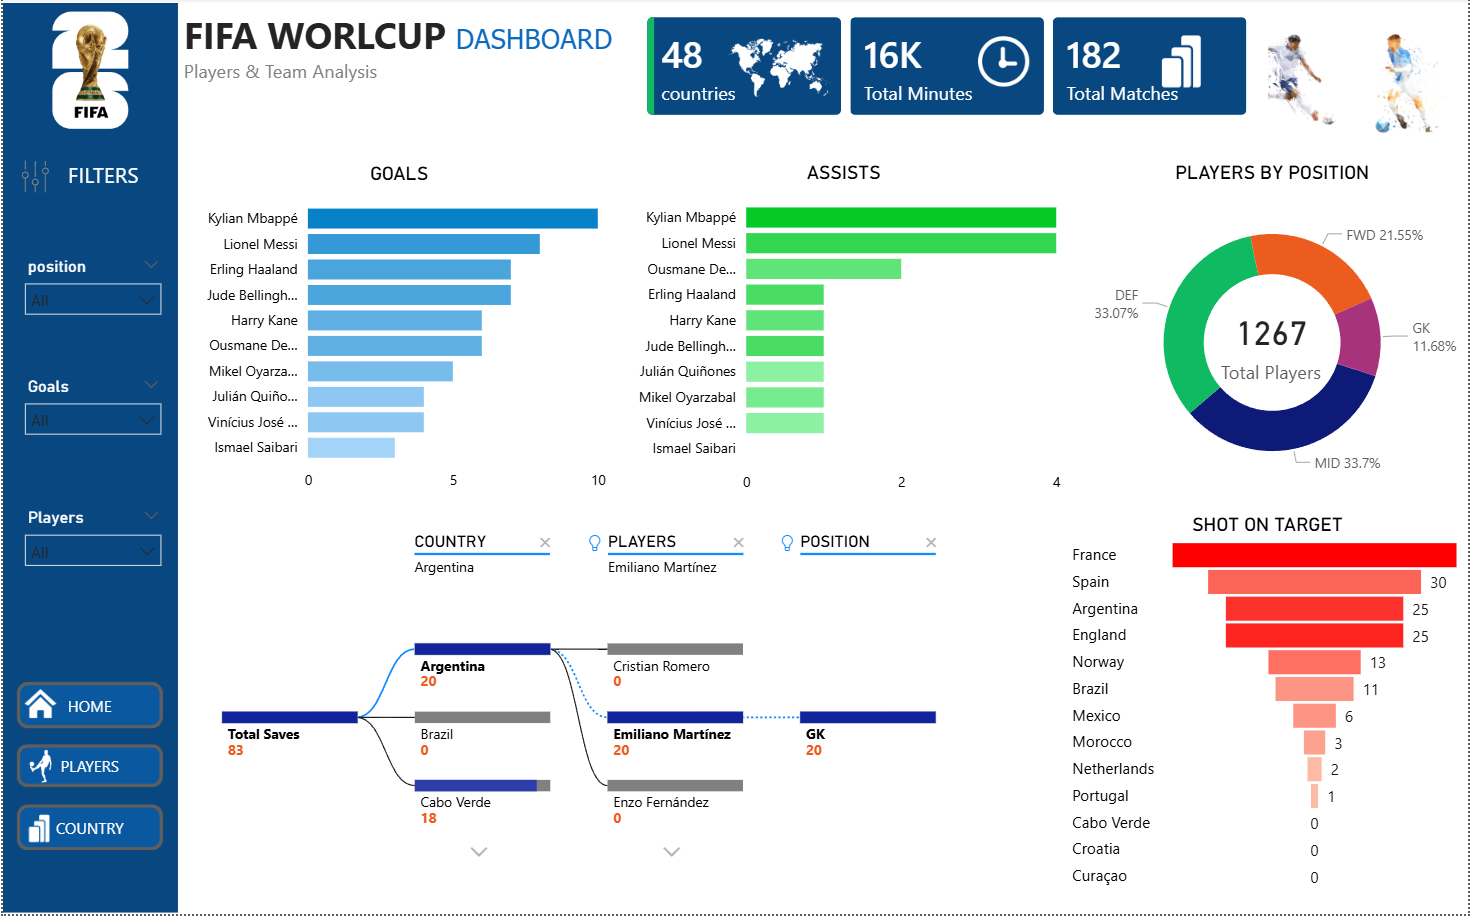

The page's visual inventory and layout, read from the dashboard file:
{"tool":"powerbi","page":{"name":"Dashboard","canvas":[1280,800],"ordinal":0},"visuals":[{"type":"cardVisual","fields":{"Data":["players.countries","statitics.Total Minutes","players.Total Matches"]},"box":[545.4,0,559.3,119.7],"z":0,"group":"g2"},{"type":"barChart","title":"GOALS","fields":{"Y":["players.Total Goals"],"Category":["players.full_name"]},"box":[160.5,143,371.2,296.9],"z":0},{"type":"image","box":[620.5,19.5,114.1,80.7],"z":1000,"group":"g2"},{"type":"barChart","title":"ASSISTS","fields":{"Category":["players.full_name"],"Y":["players.Total Assists"]},"box":[539.3,141.9,389.7,299.1],"z":1000},{"type":"image","box":[851.5,26.4,44.5,58.4],"z":2000,"group":"g2"},{"type":"donutChart","title":"PLAYERS BY POSITION","fields":{"Category":["players.position"],"Y":["players.Total Players"]},"box":[936.7,141.9,343.9,299.1],"z":2000,"group":"g1"},{"type":"decompositionTreeVisual","fields":{"ExplainBy":["players.country","players.full_name","players.position"],"Analyze":["Sum(statitics.SV)"]},"box":[161.6,449.8,768.6,335.2],"z":2000},{"type":"image","box":[1004.5,26.4,47.3,58.4],"z":3000,"group":"g2"},{"type":"funnel","title":"SHOT ON TARGET","fields":{"Category":["players.country"],"Y":["Sum(statitics.SOT)"]},"box":[929.4,449.4,350.6,335.3],"z":3000},{"type":"shape","box":[0,4.2,153,794.4],"z":4000},{"type":"image","box":[25.1,5.5,102.6,114.6],"z":5000},{"type":"textbox","box":[152.8,5.5,515.3,79.7],"z":6000},{"type":"image","box":[1164.5,5.6,115.5,136.3],"z":7000},{"type":"group","id":"g1","title":"Group 1","box":[936.7,141.9,343.9,299.1],"z":8000},{"type":"image","box":[1067.1,0,115.5,136.3],"z":9000},{"type":"card","fields":{"Values":["players.Total Players"]},"box":[1051.8,258.8,112.7,86.3],"z":9001,"group":"g1"},{"type":"group","id":"g2","title":"Group 2","box":[545.4,0,559.3,119.7],"z":10000},{"type":"actionButton","box":[11.9,597.4,127.7,40.9],"z":11000},{"type":"image","box":[16.4,602.6,32.8,27.3],"z":12000},{"type":"actionButton","box":[11.9,651.9,127.7,37.4],"z":13000},{"type":"image","box":[16.4,656.1,32.8,29.5],"z":14000},{"type":"actionButton","box":[12,704.2,127.7,40.4],"z":15000},{"type":"image","box":[12,712.9,39.3,25.1],"z":16000},{"type":"textbox","box":[2.5,136.1,150.8,40.5],"z":17000},{"type":"image","box":[2.5,142.2,51.5,28.2],"z":18000},{"type":"slicer","fields":{"Values":["players.position"]},"box":[8.6,220.9,139.7,77],"z":19000},{"type":"slicer","fields":{"Values":["statitics.GS"]},"box":[8.6,325,139.7,77],"z":20000},{"type":"slicer","fields":{"Values":["players.full_name"]},"box":[8.6,440.2,139.8,77.2],"z":20001}]}

Visuals, with their boxes in screenshot pixels (x1, y1, x2, y2), scaled from the page's 1280x800 canvas onto the 1470x917 screenshot:
cardVisual - players.countries x statitics.Total Minutes: x1=626, y1=0, x2=1269, y2=137
"GOALS" barChart: x1=184, y1=164, x2=611, y2=504
image: x1=713, y1=22, x2=844, y2=115
"ASSISTS" barChart: x1=619, y1=163, x2=1067, y2=505
image: x1=978, y1=30, x2=1029, y2=97
"PLAYERS BY POSITION" donutChart: x1=1076, y1=163, x2=1469, y2=505
decompositionTreeVisual - players.country x players.full_name: x1=186, y1=516, x2=1068, y2=900
image: x1=1154, y1=30, x2=1208, y2=97
"SHOT ON TARGET" funnel: x1=1067, y1=515, x2=1469, y2=899
shape: x1=0, y1=5, x2=176, y2=915
image: x1=29, y1=6, x2=147, y2=138
textbox: x1=175, y1=6, x2=767, y2=98
image: x1=1337, y1=6, x2=1469, y2=163
"Group 1" group: x1=1076, y1=163, x2=1469, y2=505
image: x1=1225, y1=0, x2=1358, y2=156
card - players.Total Players: x1=1208, y1=297, x2=1337, y2=396
"Group 2" group: x1=626, y1=0, x2=1269, y2=137
actionButton: x1=14, y1=685, x2=160, y2=732
image: x1=19, y1=691, x2=57, y2=722
actionButton: x1=14, y1=747, x2=160, y2=790
image: x1=19, y1=752, x2=57, y2=786
actionButton: x1=14, y1=807, x2=160, y2=853
image: x1=14, y1=817, x2=59, y2=846
textbox: x1=3, y1=156, x2=176, y2=202
image: x1=3, y1=163, x2=62, y2=195
slicer - players.position: x1=10, y1=253, x2=170, y2=341
slicer - statitics.GS: x1=10, y1=373, x2=170, y2=461
slicer - players.full_name: x1=10, y1=505, x2=170, y2=593
